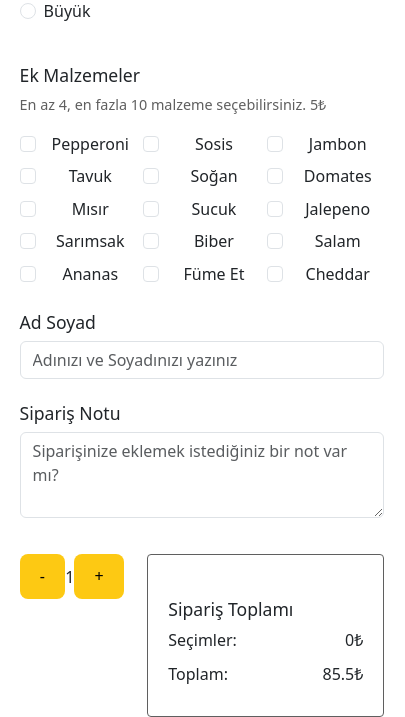
Test case: Order Page › Error Messages › name input throws error for 2 chars
(page scrolled)
Type "ha" into the field with test id "ad-input" at (203, 360), box [20,341,385,379]
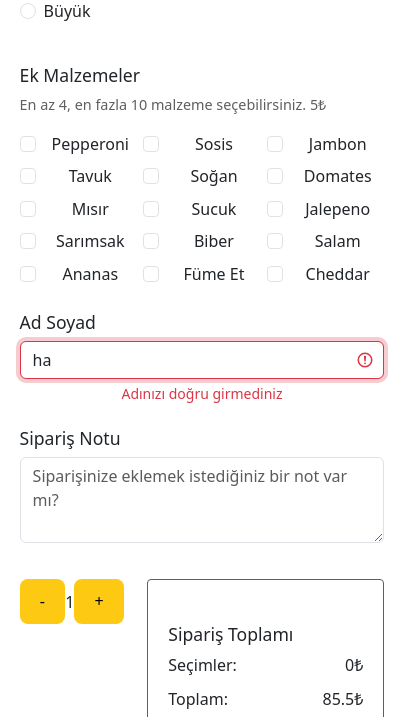
Now the text "Adınızı doğru girmediniz" is shown, box [121,384,282,403]
